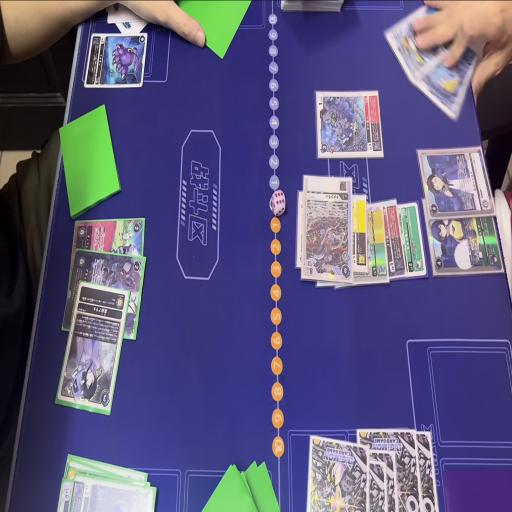card: (58, 288, 132, 414), (64, 248, 150, 336), (414, 142, 496, 220), (426, 206, 504, 282), (303, 167, 352, 285), (386, 4, 453, 88), (419, 33, 476, 122), (314, 88, 383, 161), (71, 217, 148, 275), (84, 31, 146, 94), (67, 473, 158, 512), (396, 201, 428, 282), (360, 200, 388, 287), (382, 189, 404, 285), (351, 188, 368, 276)
